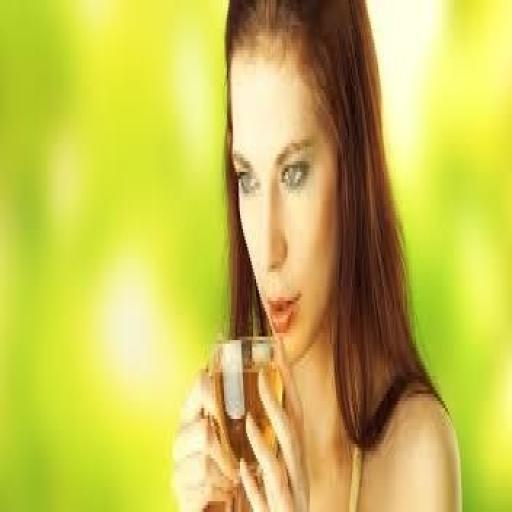drinking: (208, 333, 284, 487)
